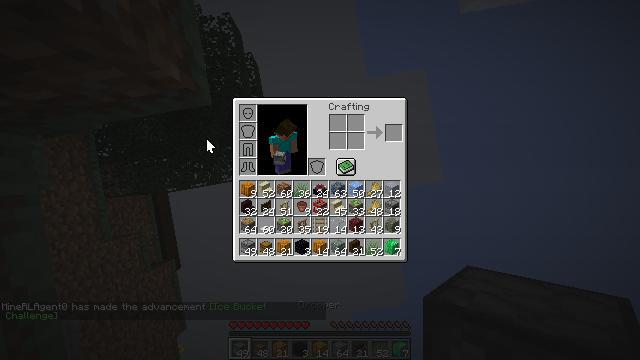cursor: (138, 206, 154, 216)
